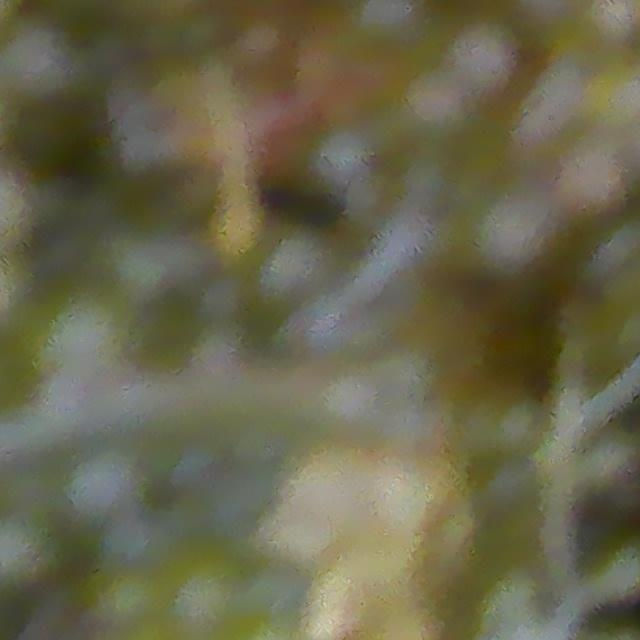SeaGrape: (161, 543, 250, 635), (41, 288, 131, 378), (0, 20, 81, 109), (65, 445, 142, 522), (91, 564, 172, 635), (0, 510, 55, 596)
